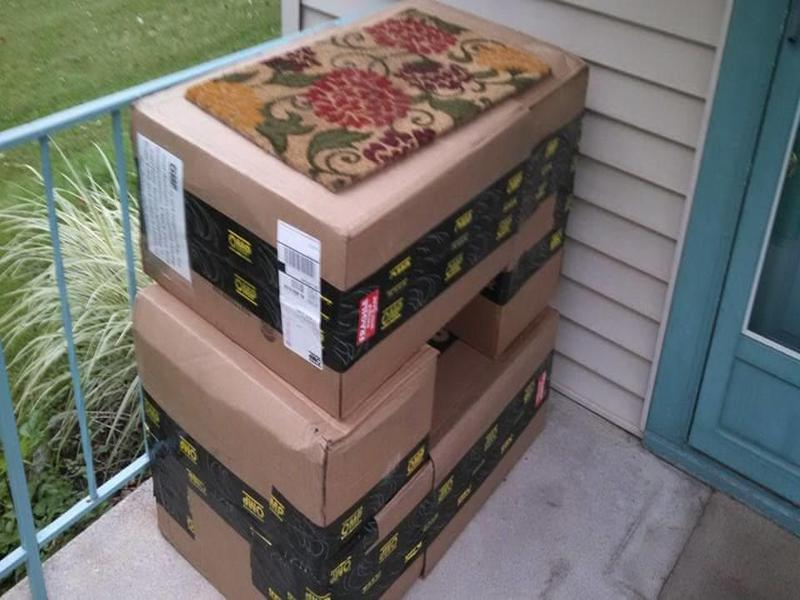package: (116, 50, 599, 422)
